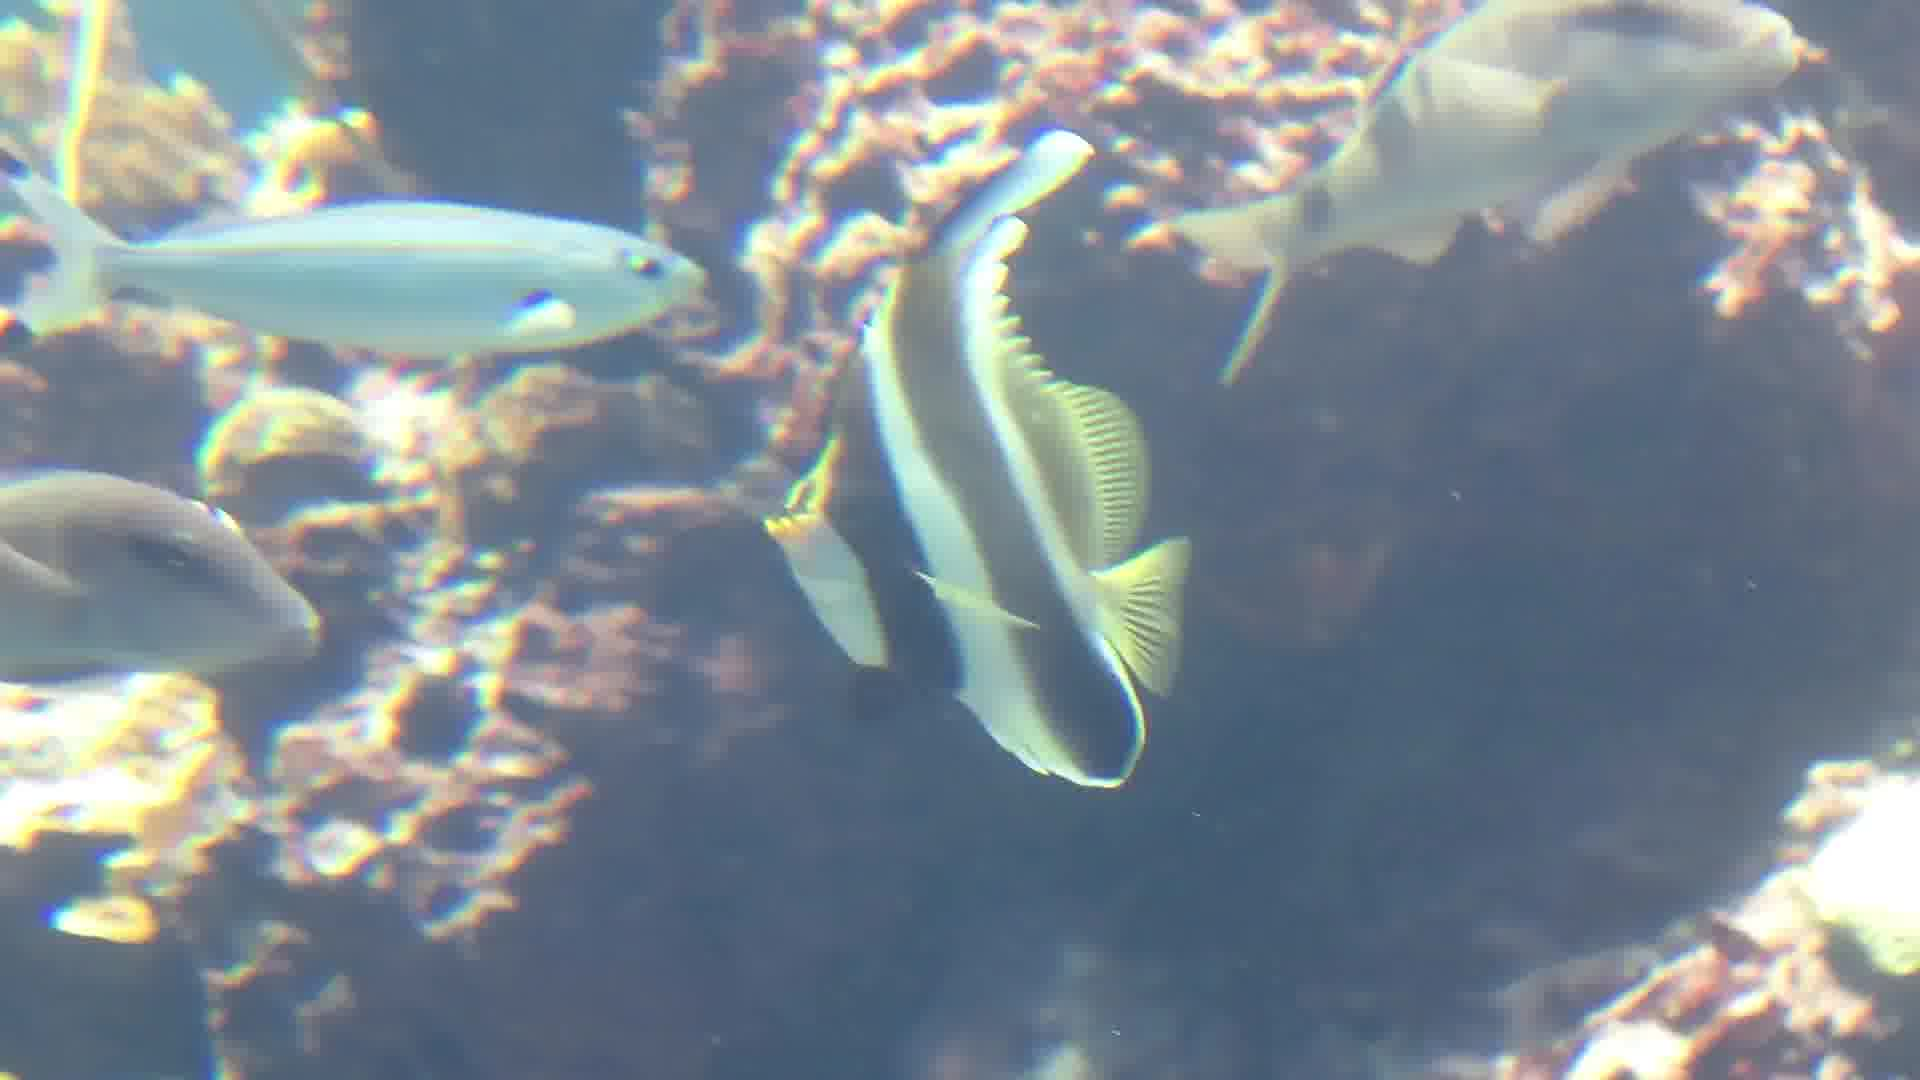Heniochus chrysostomus: (622, 113, 1288, 812)
